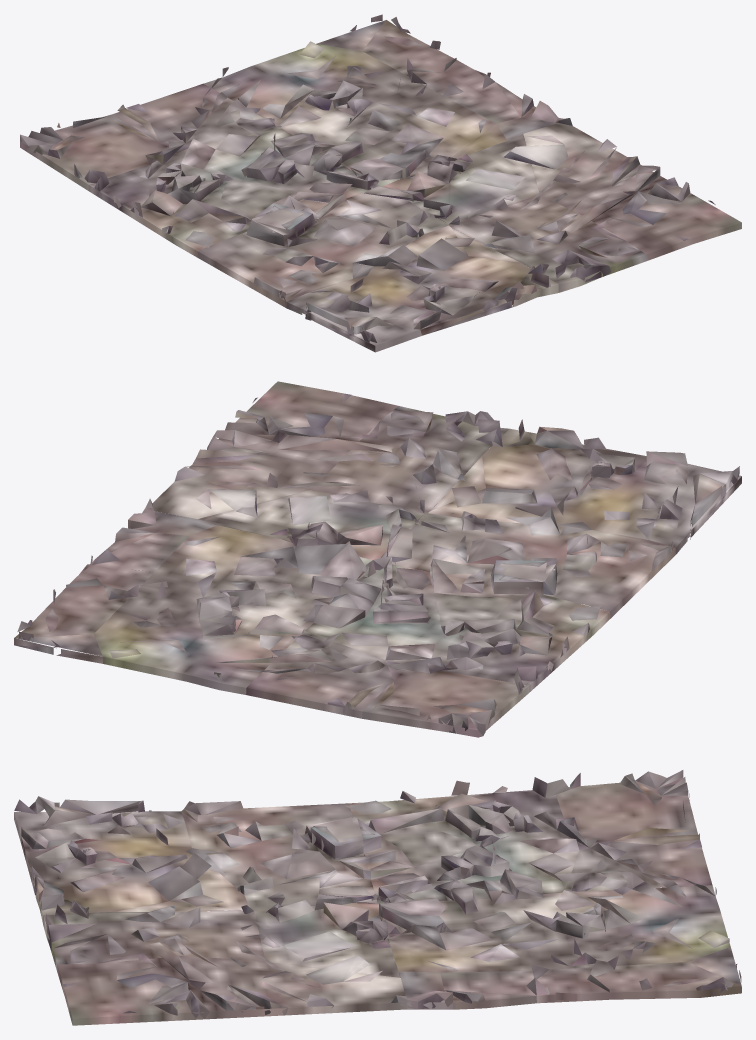
3 renders of one model, top to bottom at view 1: azimuth 30°, elevation 25°; view 2: azimuth 150°, elevation 25°; view 3: azimuth 270°, elevation 25°, orthographic. The views are drawn at different scales.
Visible parts, largest first — view 1: Mesh_0; view 2: Mesh_0; view 3: Mesh_0.
Part boxes in pixels (box(x1,y1,x2,y2)): Mesh_0: box(20, 14, 741, 352); Mesh_0: box(14, 381, 741, 737); Mesh_0: box(14, 770, 741, 1025).
Bounding box in the file's own units: 1080 × 104 × 1318.
Materials: 1 (1 with a texture image).
